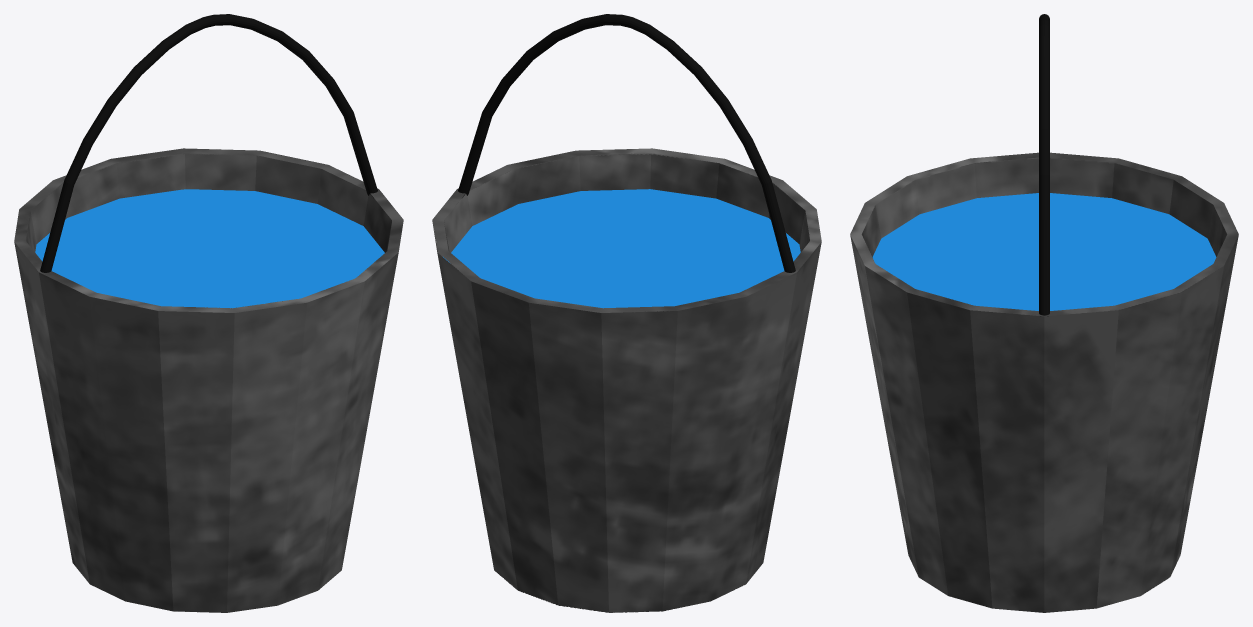
The model's file is CuboAgua.FBX.
3 views of the same model, side by side, from view 1: azimuth 30°, elevation 25°; view 2: azimuth 150°, elevation 25°; view 3: azimuth 270°, elevation 25° (orthographic).
Parts seen in each view (by area): view 1: Cylinder, Plane001, Cylinder.001; view 2: Cylinder, Plane001, Cylinder.001; view 3: Cylinder, Plane001, Cylinder.001.
Boxes of the visible parts, x1=… form: Cylinder: x1=14, y1=148, x2=403, y2=612; Plane001: x1=35, y1=189, x2=384, y2=308; Cylinder.001: x1=40, y1=14, x2=377, y2=272; Cylinder: x1=432, y1=148, x2=821, y2=612; Plane001: x1=443, y1=189, x2=800, y2=308; Cylinder.001: x1=458, y1=14, x2=795, y2=272; Cylinder: x1=850, y1=152, x2=1238, y2=612; Plane001: x1=872, y1=193, x2=1216, y2=310; Cylinder.001: x1=1039, y1=14, x2=1049, y2=316.
Size of the model in its own units: 0.1643 by 0.2486 by 0.1643.
3 materials, 1 textured.
